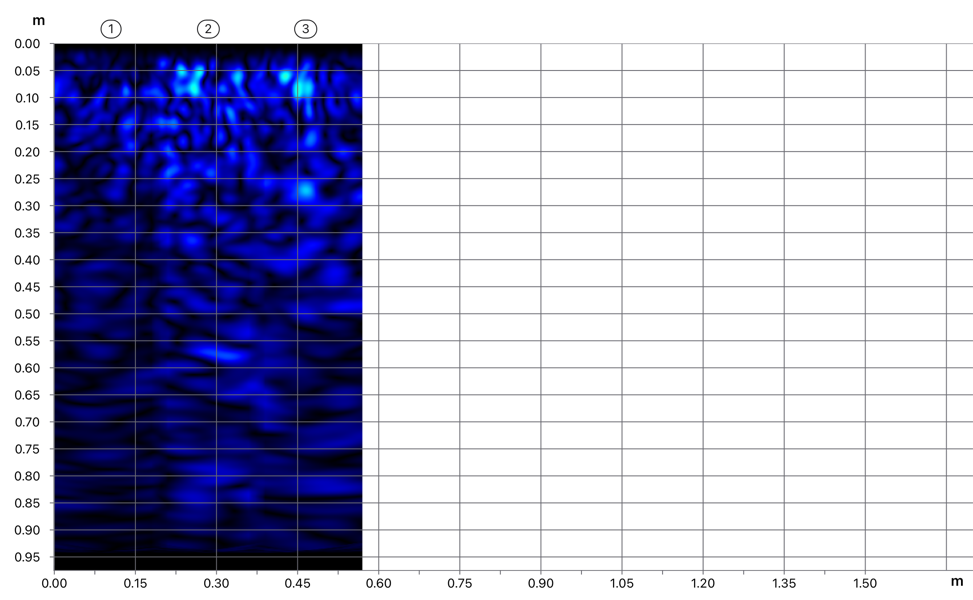crop: (0, 4, 364, 332)
